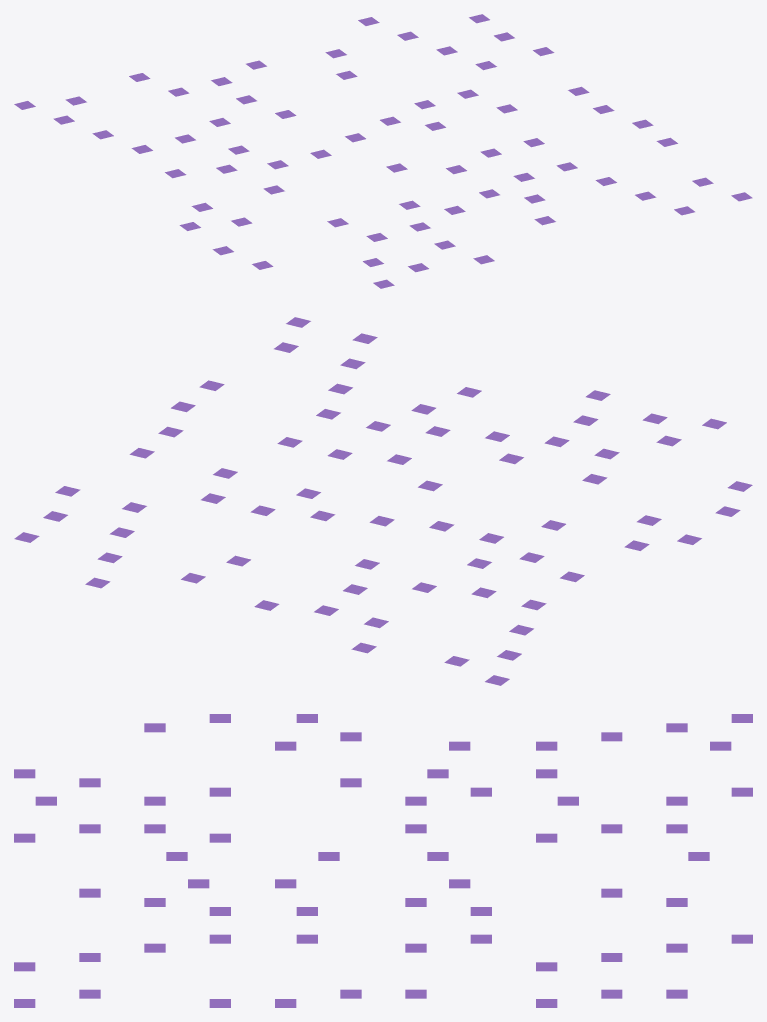
File: brick.FBX
3 renders of one model, top to bottom at view 1: azimuth 30°, elevation 25°; view 2: azimuth 150°, elevation 25°; view 3: azimuth 270°, elevation 25°, orthographic. The views are drawn at different scales.
Bounding box in the file's own units: 19.01 × 8.83e-07 × 20.19.
